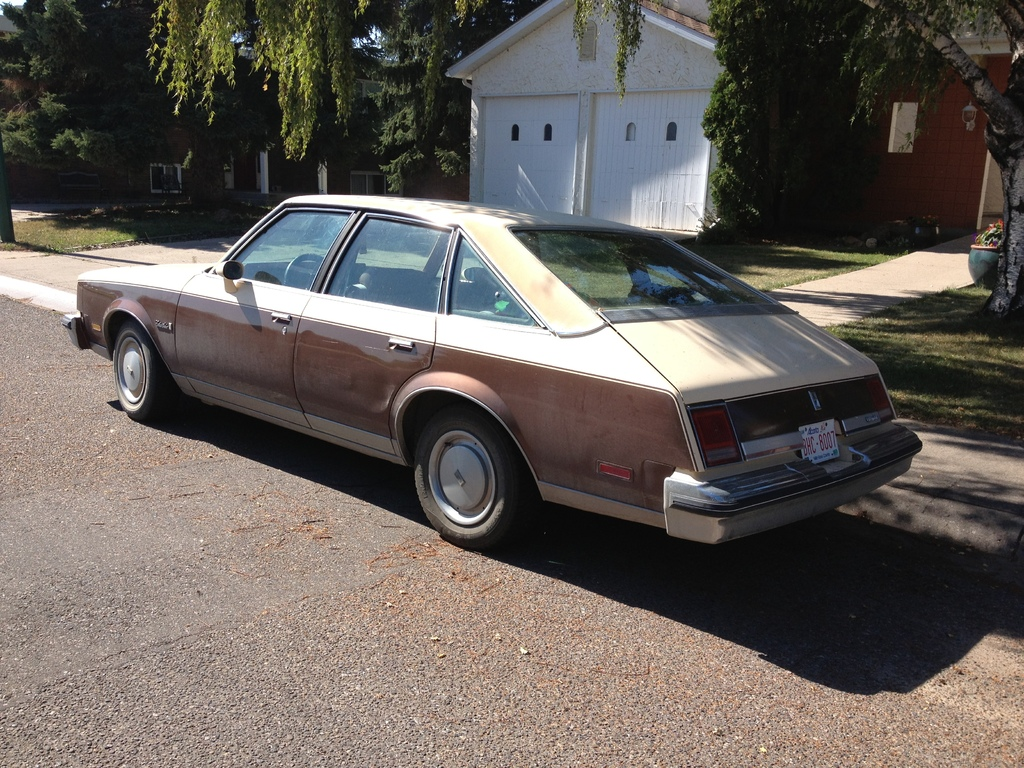Car: (73, 183, 915, 576)
